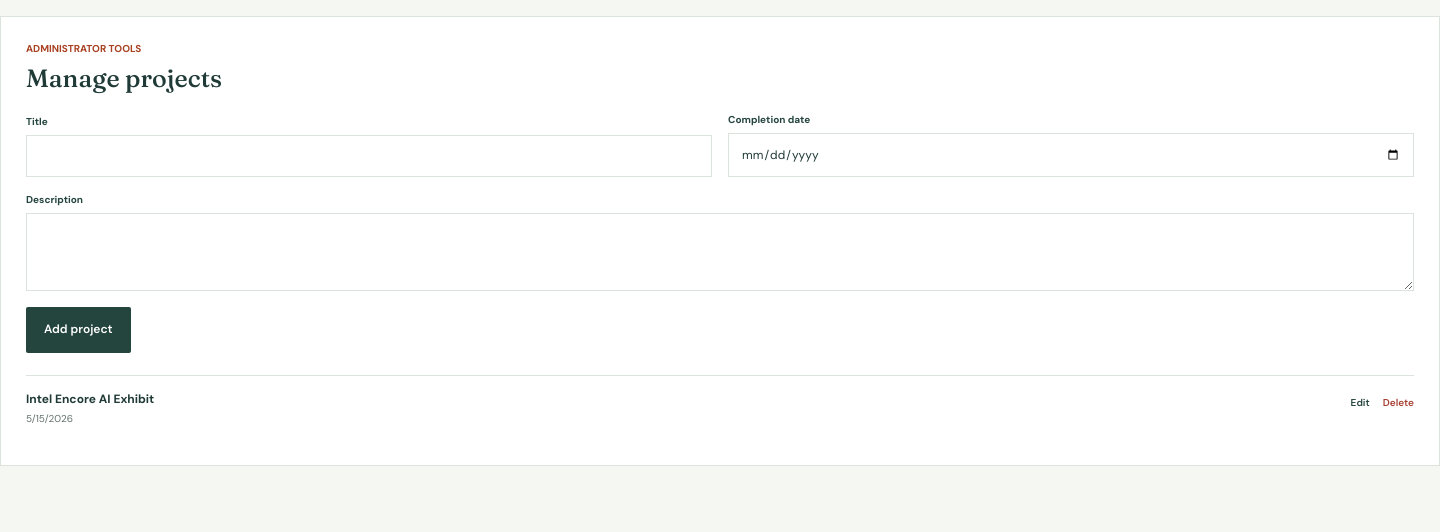
Test case: AdminRecordManager behavior › deletes a record only after user confirmation
Click the button "Delete". click: click(1398, 403)
box: left=1383, top=391, right=1414, bottom=415
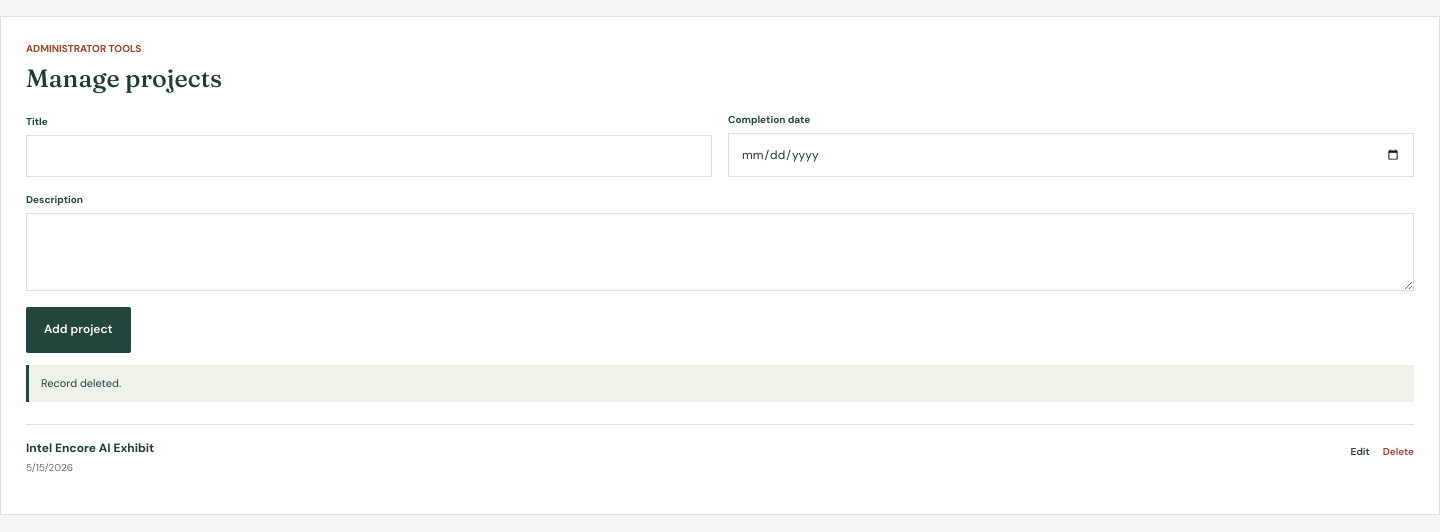
Now the message reads "Record deleted.", box left=41, top=376, right=121, bottom=390
